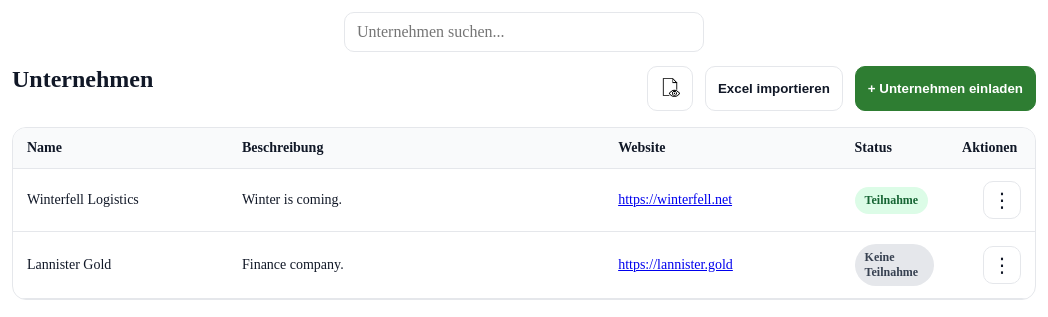
Test case: CompaniesPage › should filter companies by search input
Type "Winterfell" into the field with placeholder "Unternehmen suchen..." at point(524, 32), box x1=344 y1=12 x2=704 y2=52
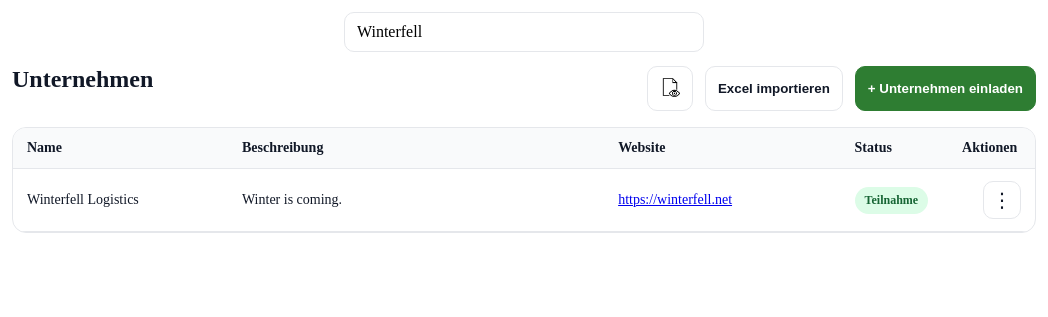
expect the text "Winterfell Logistics" is shown: met, box x1=13 y1=168 x2=228 y2=232
expect the text "Lannister Gold" is gone: met
